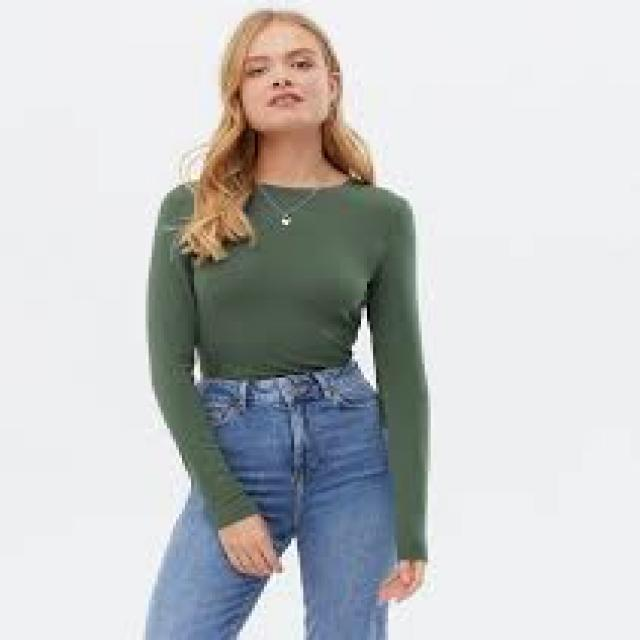plain: (116, 154, 437, 378)
